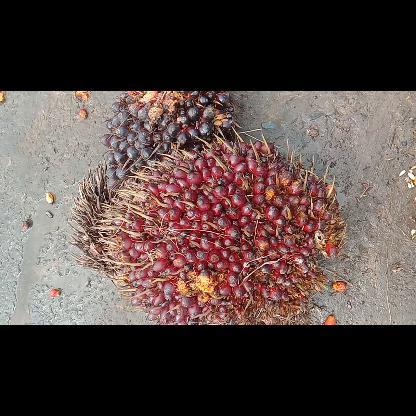Janjang kosong: (69, 166, 123, 274)
TBS masak: (93, 134, 344, 324)
TBS mentah: (102, 91, 240, 191)
